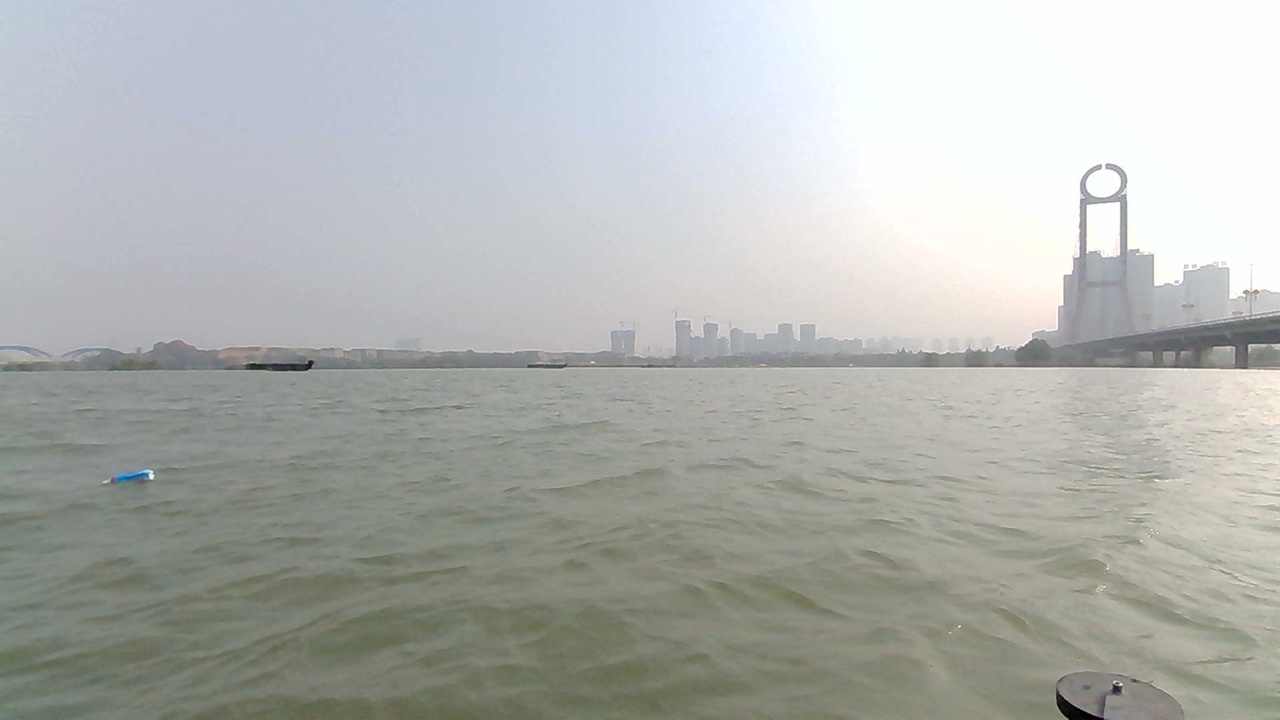bottle: (99, 464, 165, 496)
